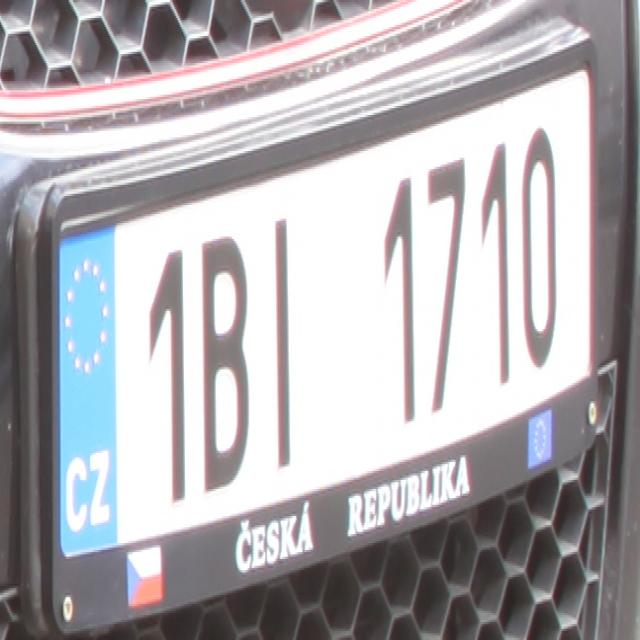0: (518, 126, 558, 376)
1: (145, 248, 192, 507), (480, 144, 513, 399), (385, 174, 417, 422)
7: (425, 156, 465, 410)
B: (199, 230, 249, 491)
